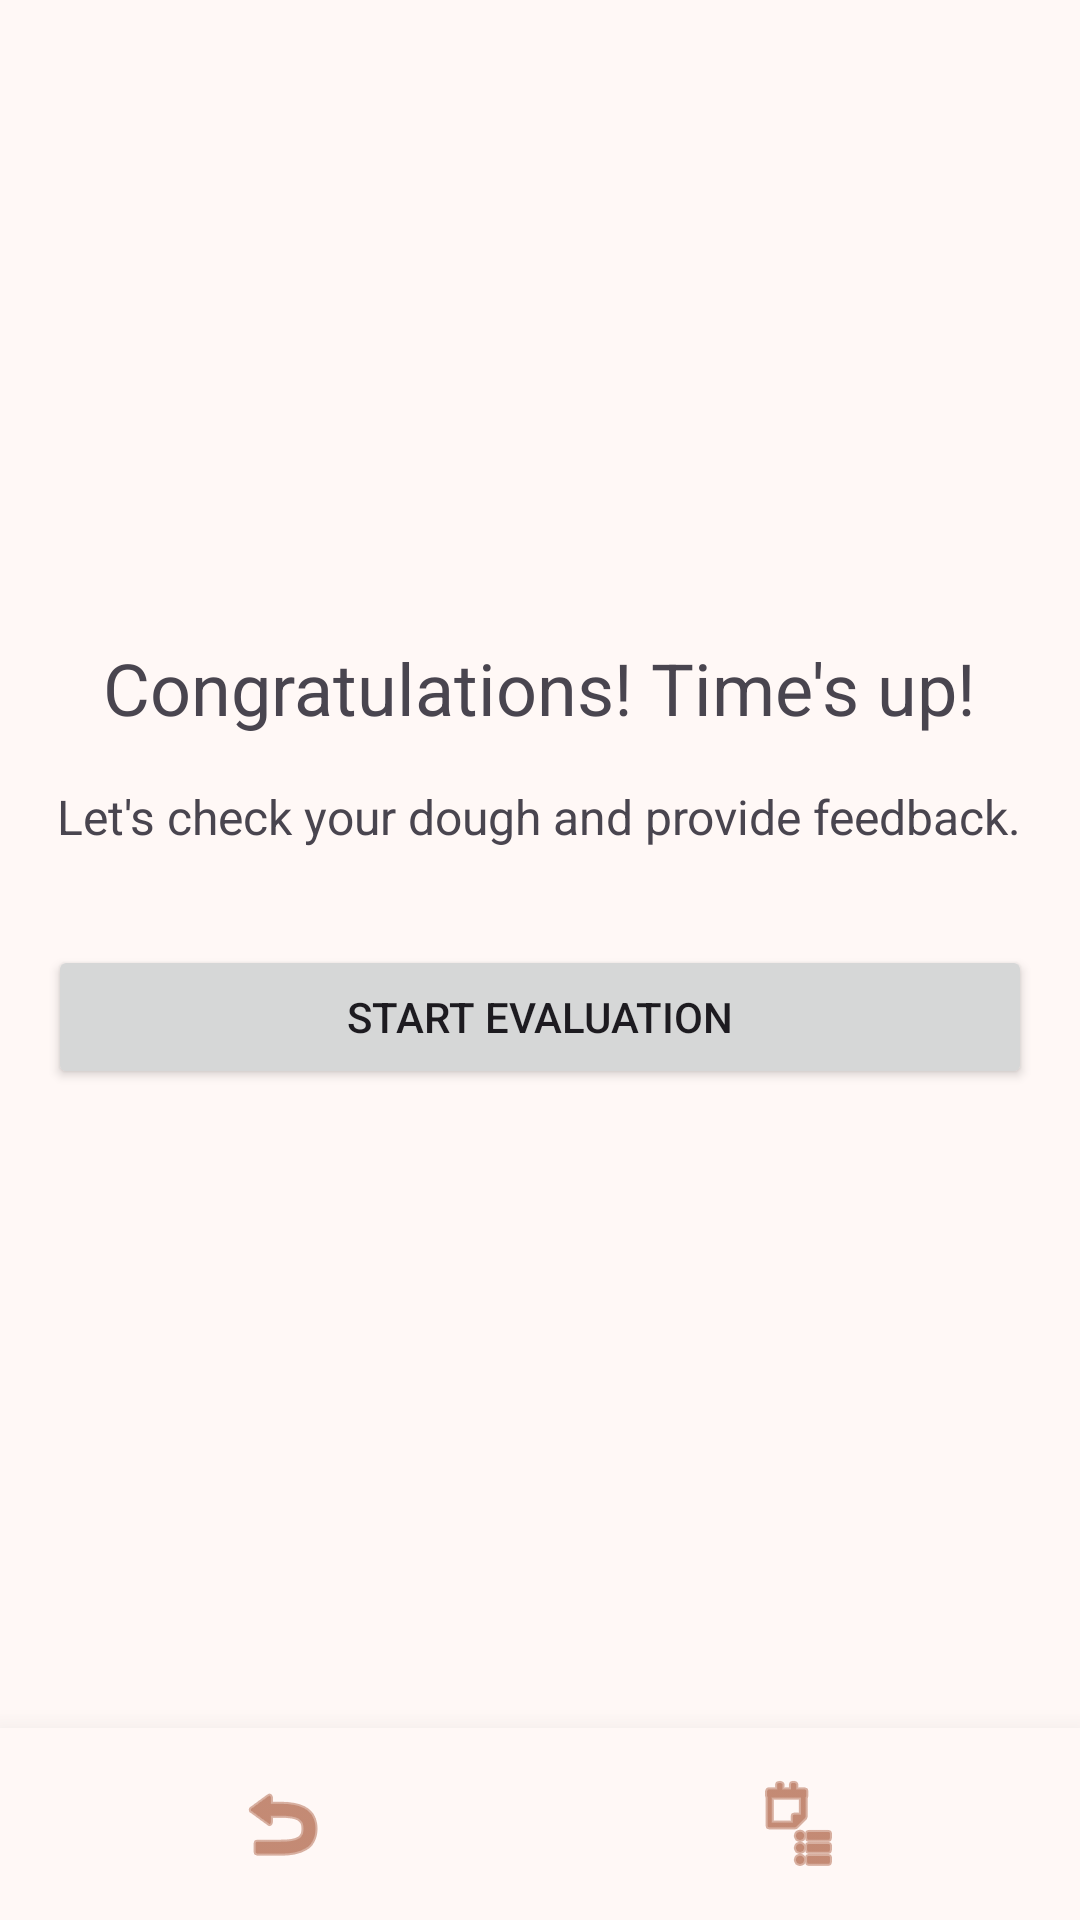

Locate icon controls on the screen. Image size 1080w x 1920h, boxes as (x1, y1, x2, y2).
agenda: (765, 1781, 832, 1866)
revert: (249, 1793, 318, 1856)
